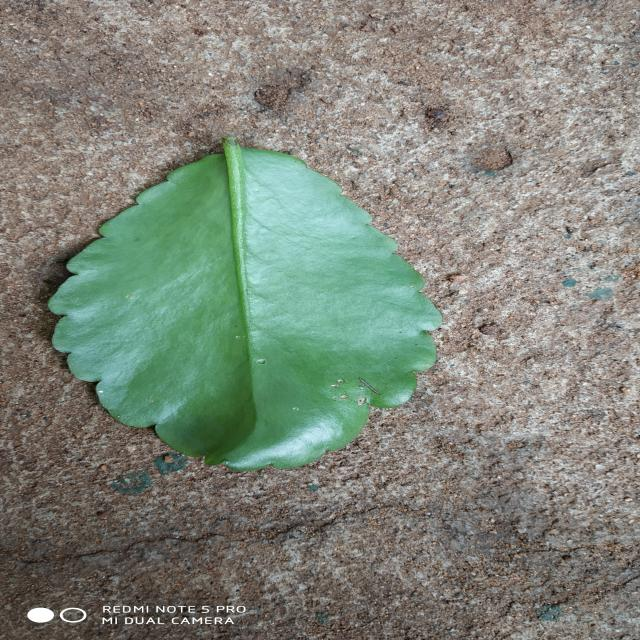spinach: (49, 136, 442, 470)
